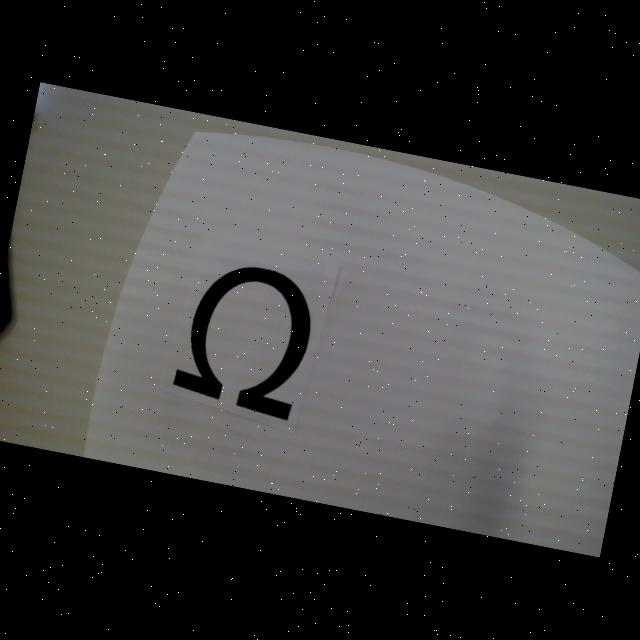OMEGA: (170, 254, 322, 422)
